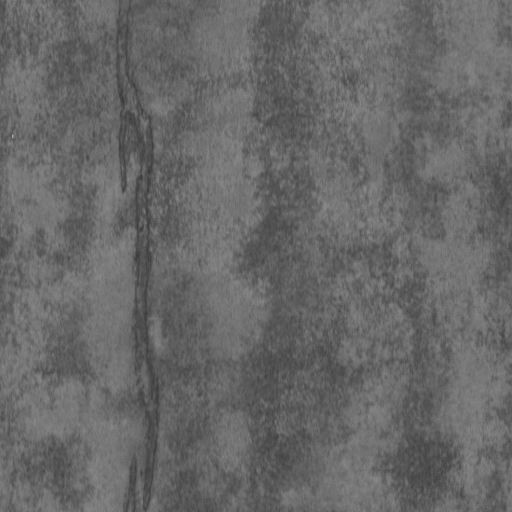zongxiangliewen: (113, 1, 157, 510)
